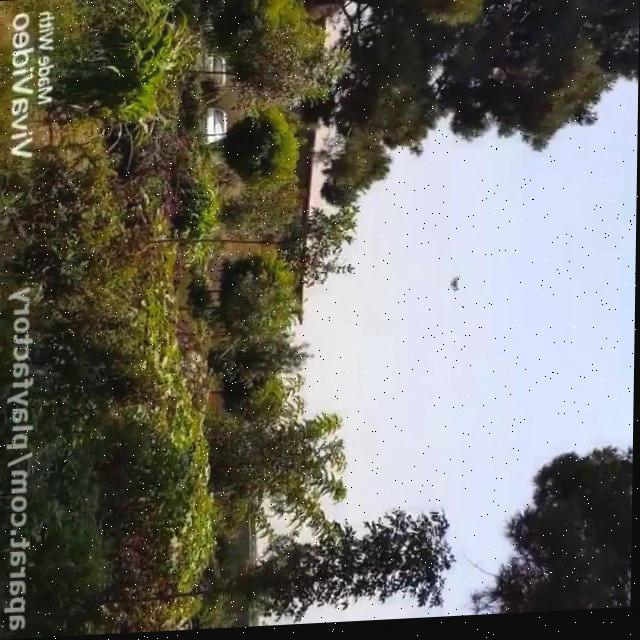drone: (447, 274, 468, 305)
